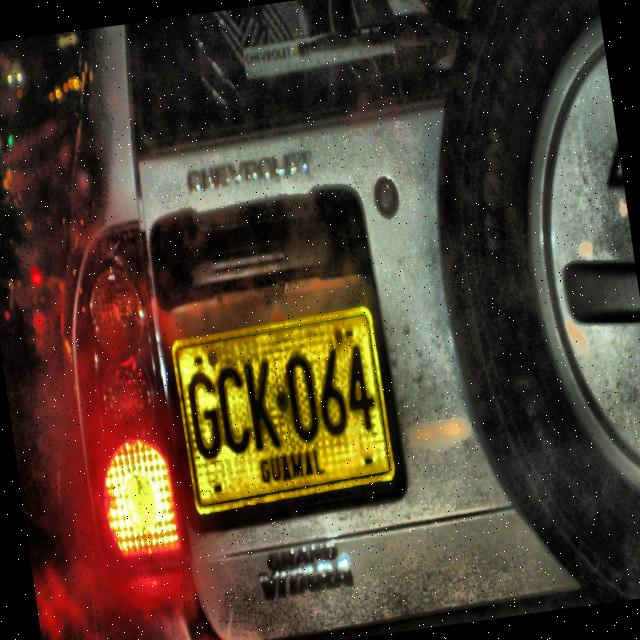plate: (172, 306, 395, 515)
